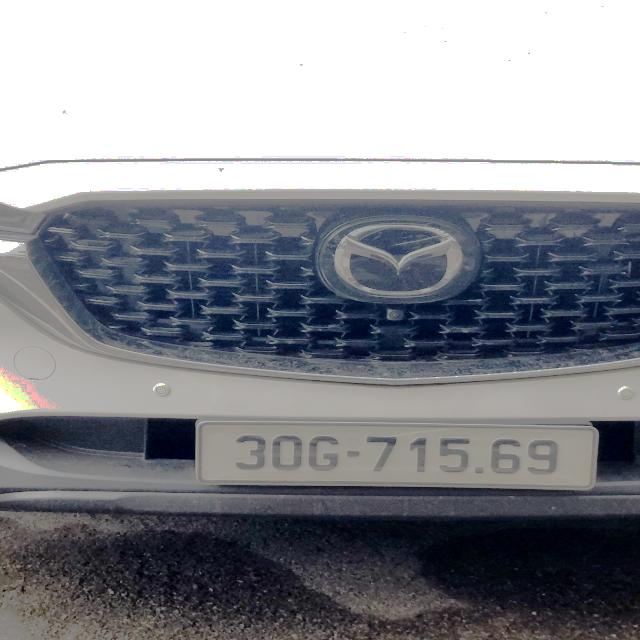license_plate: (196, 422, 598, 492)
